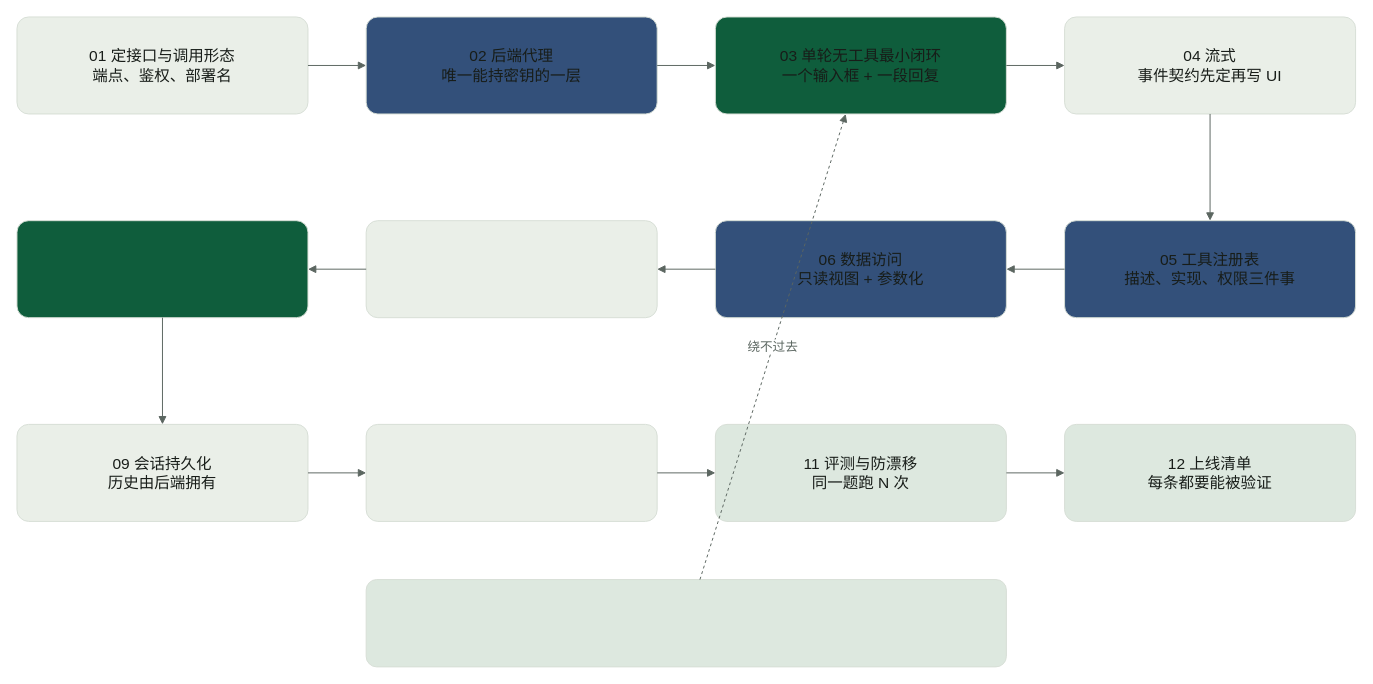
Image size: 1373x684. Some labels were removed from this diagram. Here are the shapes that lost their labels. From the top down, the centre of each, then its label:
At (x=162, y=269): "08 格式契约 schema + 修复回环".
At (x=511, y=269): "07 拆解与展示 声明，不是内心戏".
At (x=511, y=472): "10 取消与重试 停止要真的中止".
At (x=685, y=623): "最常见的错序：先把聊天 UI 画漂亮 最后才发现密钥不能进前端，整层要重写".
